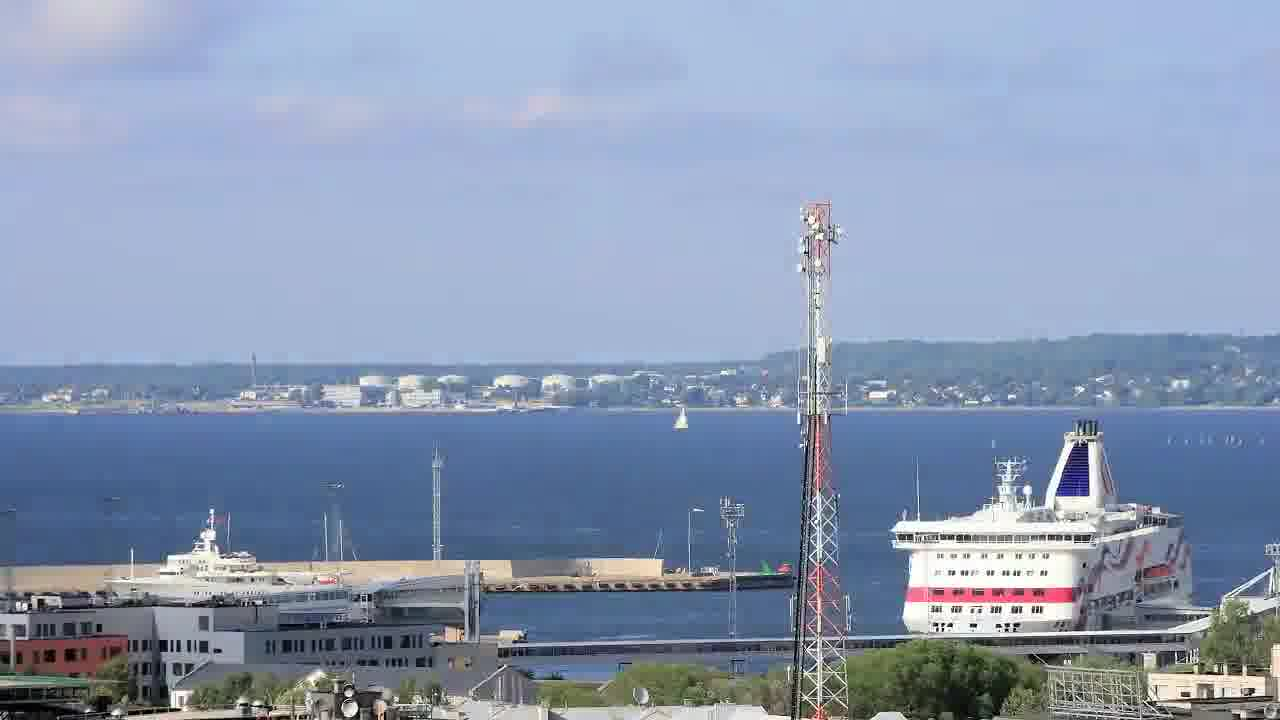type-2: (663, 391, 714, 445)
type-3: (868, 415, 1225, 638), (84, 511, 353, 609)
